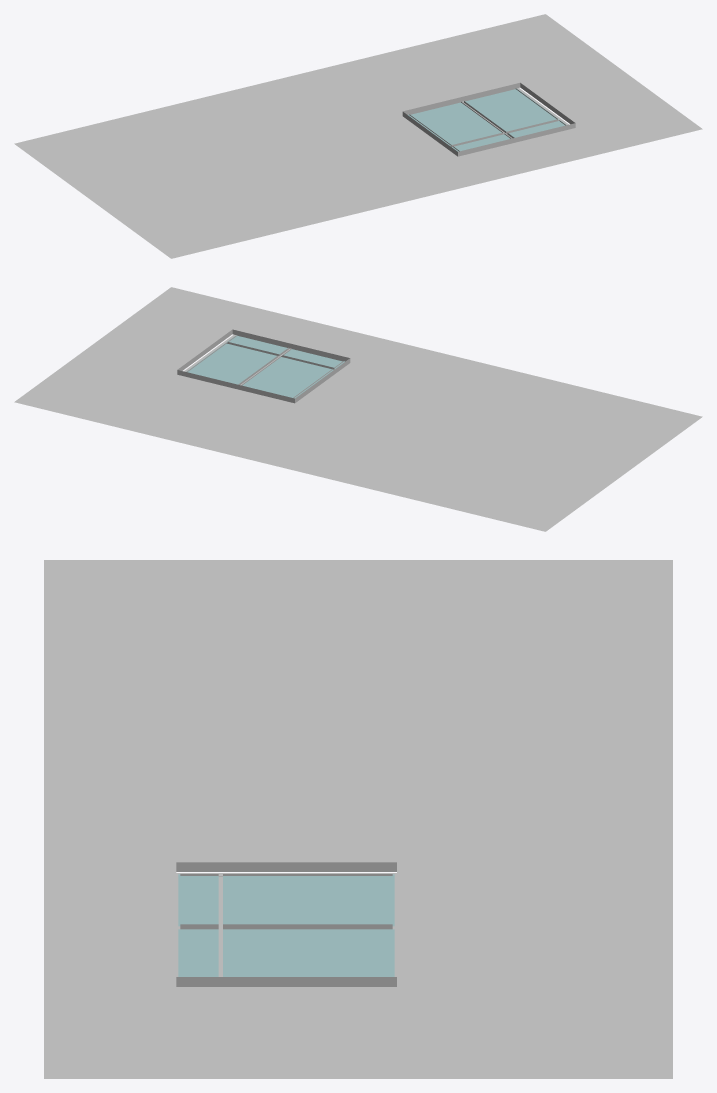
File: window wall.fbx
3 renders of one model, top to bottom at view 1: azimuth 30°, elevation 25°; view 2: azimuth 150°, elevation 25°; view 3: azimuth 270°, elevation 25°, orthographic. The views are drawn at different scales.
Visible parts, largest first — view 1: wall, window_1; view 2: wall, window_1; view 3: wall, window_1.
Part boxes in pixels (left/top/right/bottom): wall: left=14, top=14, right=702, bottom=258; window_1: left=408, top=88, right=574, bottom=151; wall: left=14, top=287, right=702, bottom=531; window_1: left=184, top=334, right=344, bottom=398; wall: left=44, top=560, right=672, bottom=1078; window_1: left=176, top=873, right=398, bottom=976.
Bounding box in the file's own units: 11.4 × 0.225 × 5.84.
